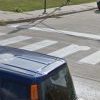crosswalk: (0, 34, 100, 65)
